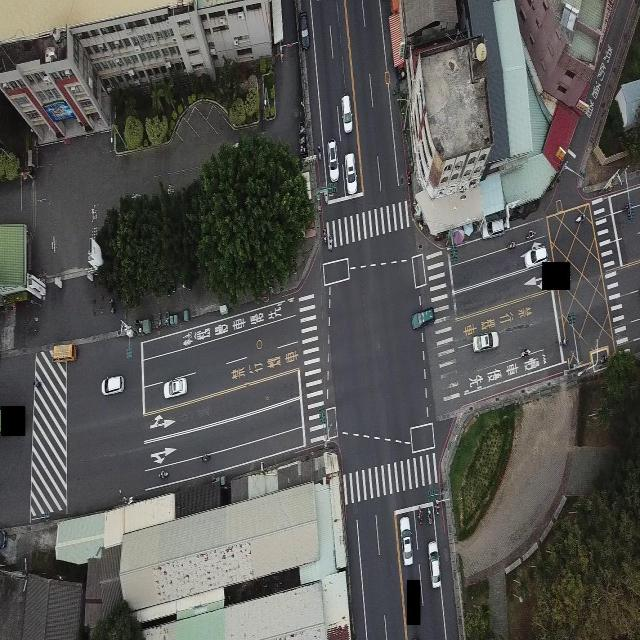bike: (156, 465, 175, 483), (201, 448, 213, 466), (520, 346, 533, 361), (526, 228, 537, 241), (574, 213, 586, 224), (417, 506, 424, 524), (316, 144, 322, 163), (321, 227, 328, 243), (556, 335, 568, 344), (328, 234, 334, 252), (427, 507, 433, 525), (509, 238, 517, 250), (436, 495, 440, 518)
bus: (49, 339, 82, 366)
car: (341, 151, 363, 198), (397, 514, 414, 566), (428, 540, 442, 589), (340, 93, 356, 135), (472, 330, 498, 354), (523, 243, 549, 267), (326, 137, 339, 185), (164, 375, 187, 400), (102, 373, 125, 397), (412, 307, 435, 331)
